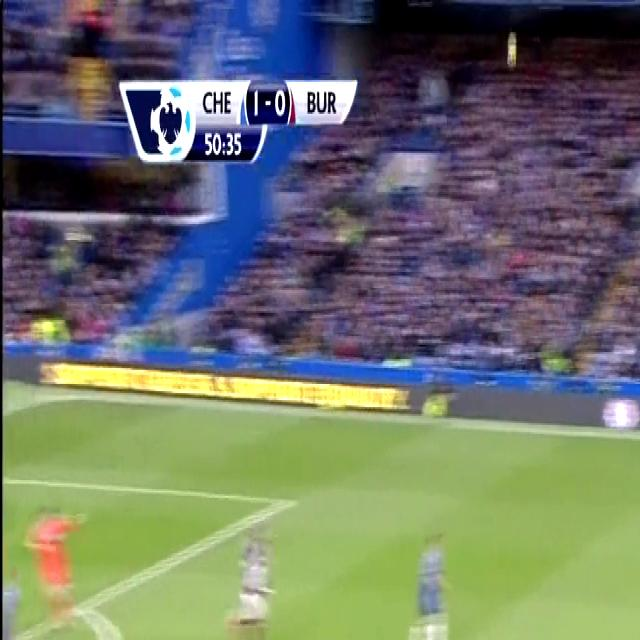ball: (500, 26, 521, 77)
goalkeeper: (24, 494, 83, 640)
soccer-player: (218, 501, 283, 640), (405, 510, 459, 640), (1, 549, 21, 640)
